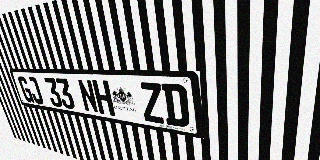3: (55, 78, 76, 110), (44, 77, 63, 108)
D: (161, 83, 190, 128)
G: (17, 76, 35, 103)
H: (92, 80, 115, 116)
J: (26, 77, 44, 105)
N: (77, 79, 99, 114)
Z: (139, 82, 166, 124)
